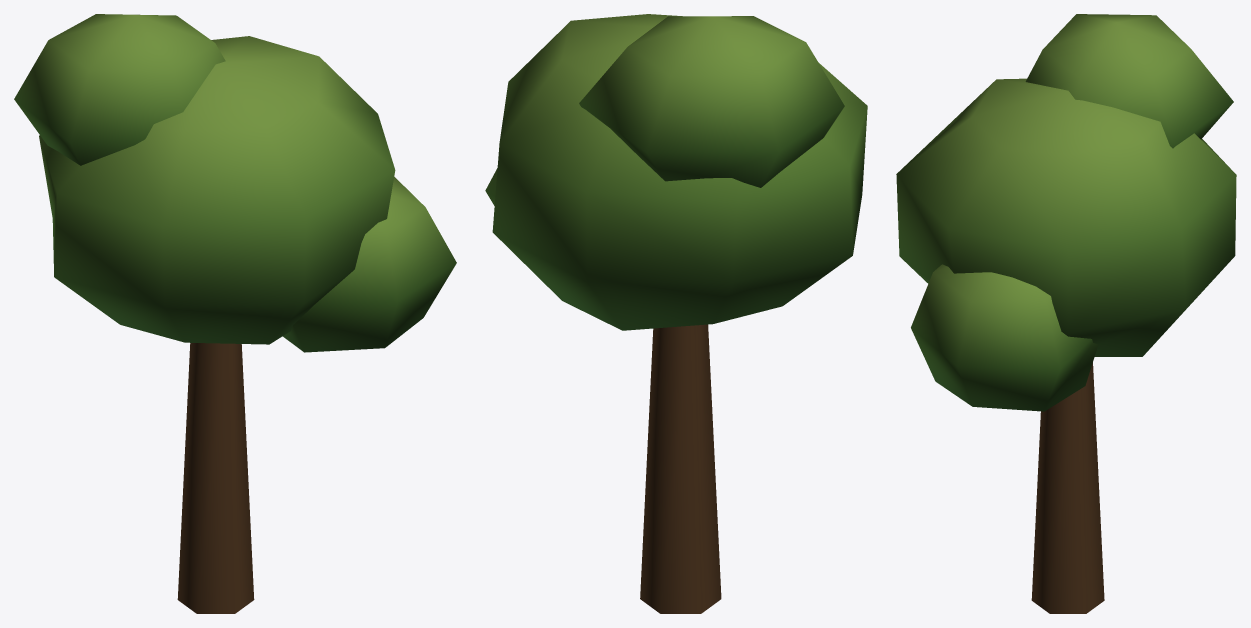
The model's file is tree_leaf.glb.
3 renders of one model, left to right at view 1: azimuth 30°, elevation 25°; view 2: azimuth 150°, elevation 25°; view 3: azimuth 270°, elevation 25°, orthographic. The views are drawn at different scales.
Visible parts, largest first — view 1: tree_leaf; view 2: tree_leaf; view 3: tree_leaf.
Part boxes in pixels (x1,y1,x2,y2): tree_leaf: [14, 14, 456, 613]; tree_leaf: [485, 14, 867, 613]; tree_leaf: [896, 14, 1236, 613].
Size of the model in its own units: 0.6334 by 1 by 0.5603.
